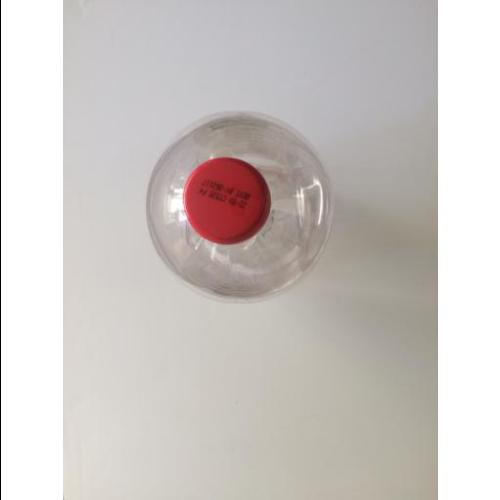plastic: (146, 109, 333, 306)
